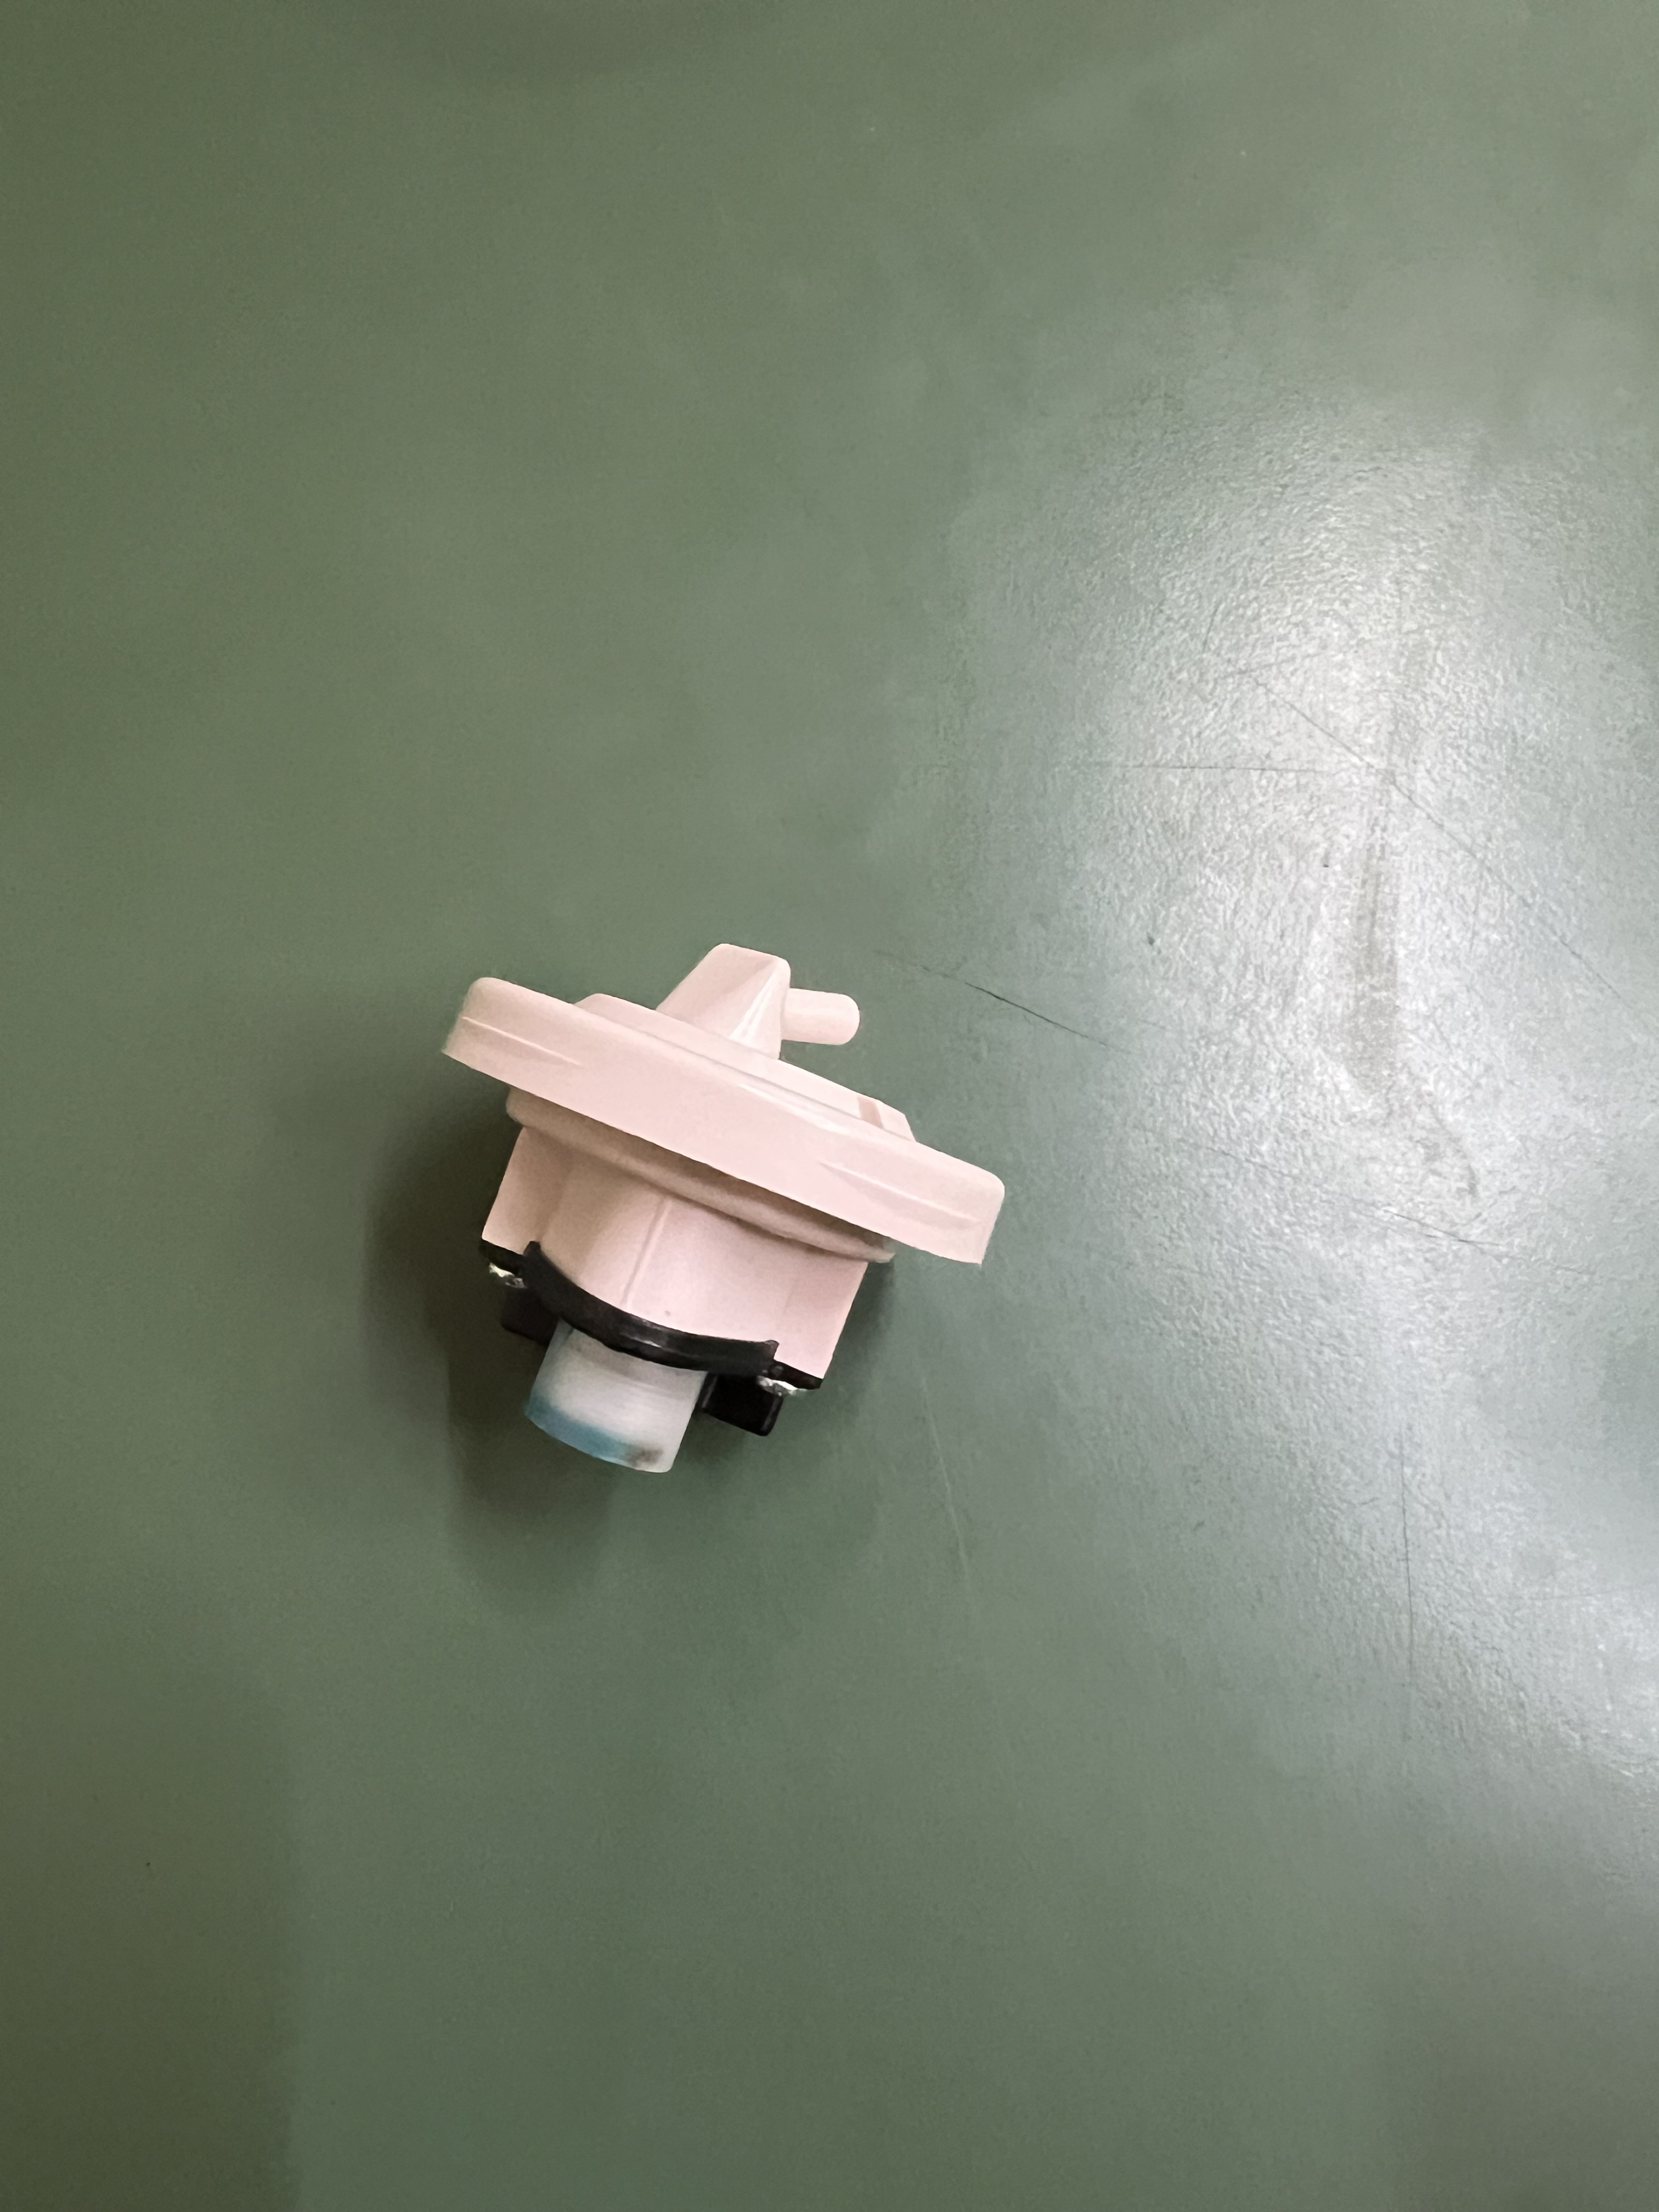pressure_sensor: (331, 914, 1014, 1491)
